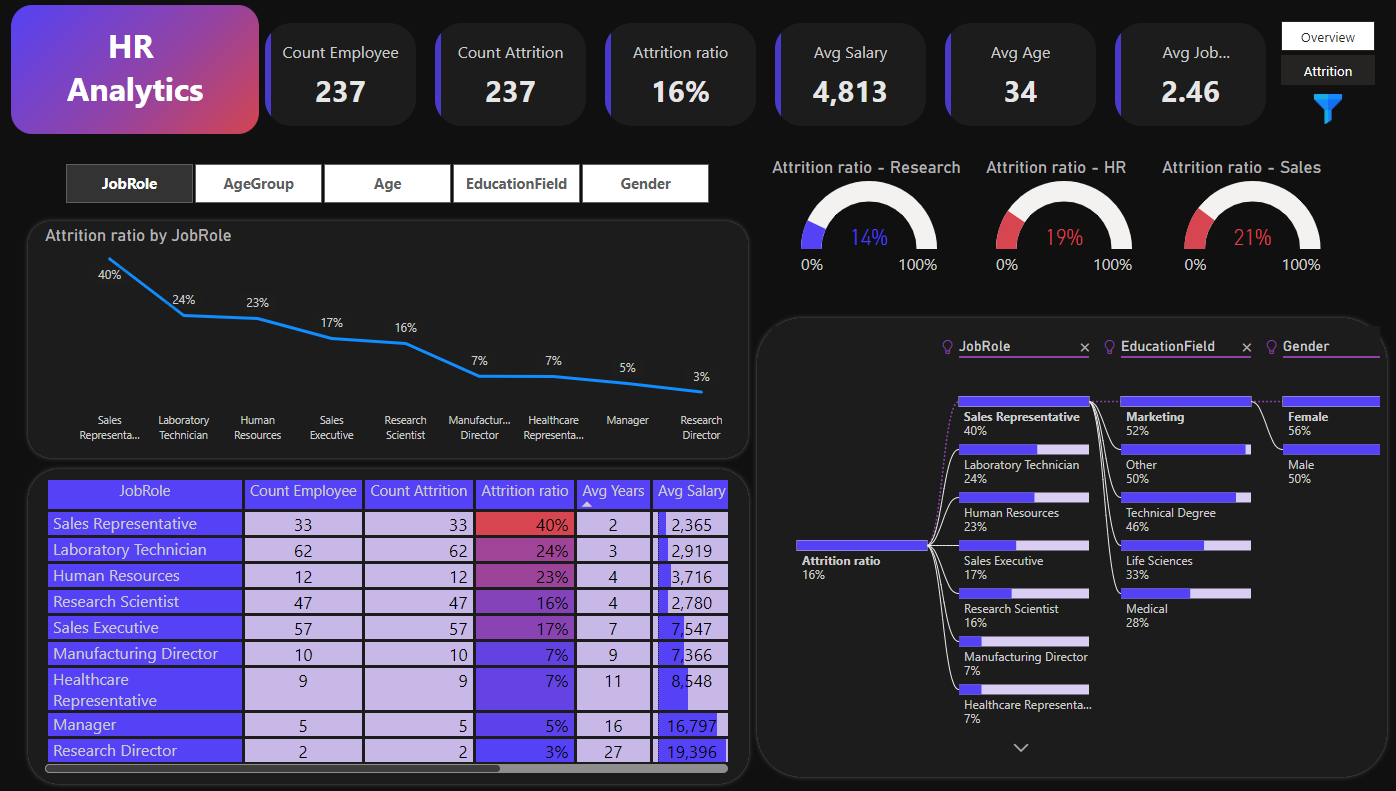

What the dashboard file says about the page in this screenshot:
{"tool":"powerbi","page":{"name":"Attrition","canvas":[1400,800],"ordinal":1},"visuals":[{"type":"shape","box":[1175.1,8.8,225,790.6],"z":0,"group":"g4"},{"type":"cardVisual","fields":{"Data":["_Measures.Count Employee","_Measures.Count Attrition","_Measures.Attrition ratio","_Measures.Avg Salary","_Measures.Avg Age","_Measures.Avg Job Satisfaction"]},"box":[262.4,19.8,1013.1,113.5],"z":0},{"type":"shape","box":[25,218,729.8,246.9],"z":0,"group":"g1"},{"type":"shape","box":[754.1,314.9,640.4,469],"z":0,"group":"g2"},{"type":"shape","box":[25,465.6,730.9,325.2],"z":0,"group":"g3"},{"type":"group","id":"g1","title":"Group 1","box":[25,218,729.8,246.9],"z":1000},{"type":"lineChart","fields":{"Category":["HR_Analytics.JobRole","HR_Analytics.AgeGroup","HR_Analytics.Age","HR_Analytics.EducationField","HR_Analytics.Gender"],"Y":["_Measures.Attrition ratio"]},"box":[41.6,226.8,701.1,224.9],"z":1000,"group":"g1"},{"type":"pivotTable","fields":{"Rows":["HR_Analytics.JobRole"],"Values":["_Measures.Count Employee","_Measures.Count Attrition","_Measures.Attrition ratio","_Measures.Avg Years","_Measures.Avg Salary","_Measures.Over time %","_Measures.Avg Job Satisfaction"]},"box":[41.5,473.3,693.4,306.5],"z":1000,"group":"g3"},{"type":"slicer","fields":{"Values":["HR_Analytics.Attrition"]},"box":[1194.6,627.8,188.5,75],"z":1000,"group":"g4"},{"type":"slicer","fields":{"Values":["HR_Analytics.EducationField"]},"box":[1194.2,538.7,189,75.8],"z":2000,"group":"g4"},{"type":"slicer","fields":{"Values":["HR_Analytics.Department"]},"box":[1194.2,180.1,189,74.6],"z":3000,"group":"g4"},{"type":"group","id":"g2","title":"Avg Salary and Count Emp by Age","box":[754.1,314.9,640.4,469],"z":3000},{"type":"slicer","fields":{"Values":["HR_Analytics.Gender"]},"box":[1194.2,448.1,189,77.1],"z":4000,"group":"g4"},{"type":"group","id":"g3","title":"Table","box":[25,465.6,730.9,325.2],"z":4000},{"type":"image","title":"icon filter ","box":[1309.6,88.2,40.8,45.2],"z":5000},{"type":"slicer","fields":{"Values":["HR_Analytics.BusinessTravel"]},"box":[1194.2,358.8,189,75.8],"z":5000,"group":"g4"},{"type":"image","box":[7.7,0,258,143.3],"z":6000},{"type":"slicer","fields":{"Values":["HR_Analytics.JobRole"]},"box":[1194.2,268.1,189,77.1],"z":6000,"group":"g4"},{"type":"textbox","box":[27.6,19.8,218.3,102.5],"z":7000},{"type":"slicer","fields":{"Values":["HR_Analytics.AgeGroup"]},"box":[1194.2,92,189,74.6],"z":7000,"group":"g4"},{"type":"pageNavigator","box":[1283.1,23.1,93.7,65],"z":8000},{"type":"actionButton","box":[1217.2,714.2,142.7,50.1],"z":8000,"group":"g4"},{"type":"image","title":"Filter no","box":[1311.6,22.2,67.2,61.7],"z":9500,"group":"g4"},{"type":"gauge","title":"Attrition ratio - HR","fields":{"Y":["_Measures.Attrition ratio"]},"box":[983.3,158.7,165.4,127.9],"z":10000},{"type":"gauge","title":"Attrition ratio - Research","fields":{"Y":["_Measures.Attrition ratio"]},"box":[769.4,158.7,203.9,127.9],"z":11000},{"type":"gauge","title":"Attrition ratio - Sales","fields":{"Y":["_Measures.Attrition ratio"]},"box":[1158.6,158.7,191.8,127.9],"z":12000},{"type":"slicer","fields":{"Values":["Matrices.Matrices"]},"box":[41.9,158.7,693.4,52.9],"z":13000},{"type":"decompositionTreeVisual","fields":{"Analyze":["_Measures.Attrition ratio"],"ExplainBy":["HR_Analytics.JobRole","HR_Analytics.EducationField","HR_Analytics.Gender"]},"box":[769.4,323,617.3,444.3],"z":14000},{"type":"group","id":"g4","title":"Filters","box":[1175.1,8.8,225,790.6],"z":14500}]}

Visuals, with their boxes in screenshot pixels (x1, y1, x2, y2), scaled from the page's 1400x800 canvas onto the 1396x791 screenshot:
shape: [left=1172, top=9, right=1395, bottom=790]
cardVisual - _Measures.Count Employee x _Measures.Count Attrition: [left=262, top=20, right=1272, bottom=132]
shape: [left=25, top=216, right=753, bottom=460]
shape: [left=752, top=311, right=1391, bottom=775]
shape: [left=25, top=460, right=754, bottom=782]
"Group 1" group: [left=25, top=216, right=753, bottom=460]
lineChart - HR_Analytics.JobRole x HR_Analytics.AgeGroup: [left=41, top=224, right=741, bottom=447]
pivotTable - HR_Analytics.JobRole x _Measures.Count Employee: [left=41, top=468, right=733, bottom=771]
slicer - HR_Analytics.Attrition: [left=1191, top=621, right=1379, bottom=695]
slicer - HR_Analytics.EducationField: [left=1191, top=533, right=1379, bottom=608]
slicer - HR_Analytics.Department: [left=1191, top=178, right=1379, bottom=252]
"Avg Salary and Count Emp by Age" group: [left=752, top=311, right=1391, bottom=775]
slicer - HR_Analytics.Gender: [left=1191, top=443, right=1379, bottom=519]
"Table" group: [left=25, top=460, right=754, bottom=782]
"icon filter " image: [left=1306, top=87, right=1347, bottom=132]
slicer - HR_Analytics.BusinessTravel: [left=1191, top=355, right=1379, bottom=430]
image: [left=8, top=0, right=265, bottom=142]
slicer - HR_Analytics.JobRole: [left=1191, top=265, right=1379, bottom=341]
textbox: [left=28, top=20, right=245, bottom=121]
slicer - HR_Analytics.AgeGroup: [left=1191, top=91, right=1379, bottom=165]
pageNavigator: [left=1279, top=23, right=1373, bottom=87]
actionButton: [left=1214, top=706, right=1356, bottom=756]
"Filter no" image: [left=1308, top=22, right=1375, bottom=83]
"Attrition ratio - HR" gauge: [left=980, top=157, right=1145, bottom=283]
"Attrition ratio - Research" gauge: [left=767, top=157, right=971, bottom=283]
"Attrition ratio - Sales" gauge: [left=1155, top=157, right=1347, bottom=283]
slicer - Matrices.Matrices: [left=42, top=157, right=733, bottom=209]
decompositionTreeVisual - _Measures.Attrition ratio x HR_Analytics.JobRole: [left=767, top=319, right=1383, bottom=759]
"Filters" group: [left=1172, top=9, right=1395, bottom=790]
